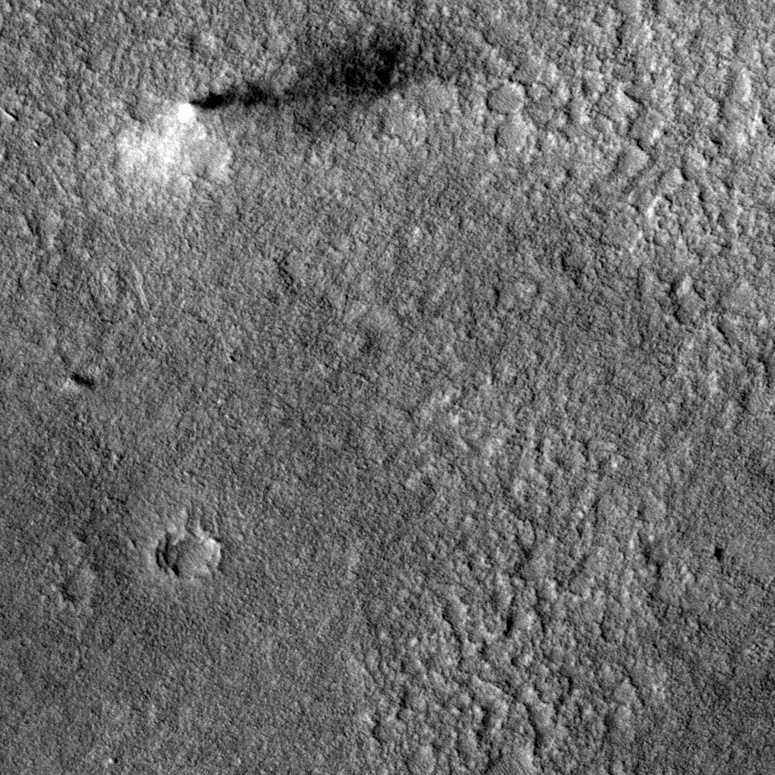dust_devil: (115, 23, 437, 189)
